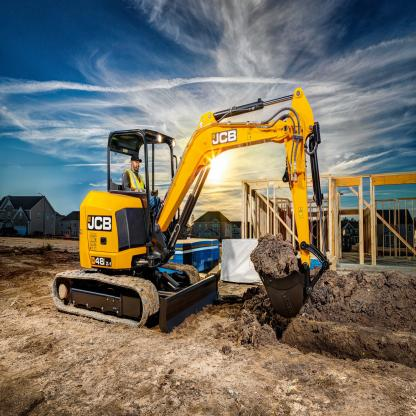excavator: (49, 99, 348, 368)
